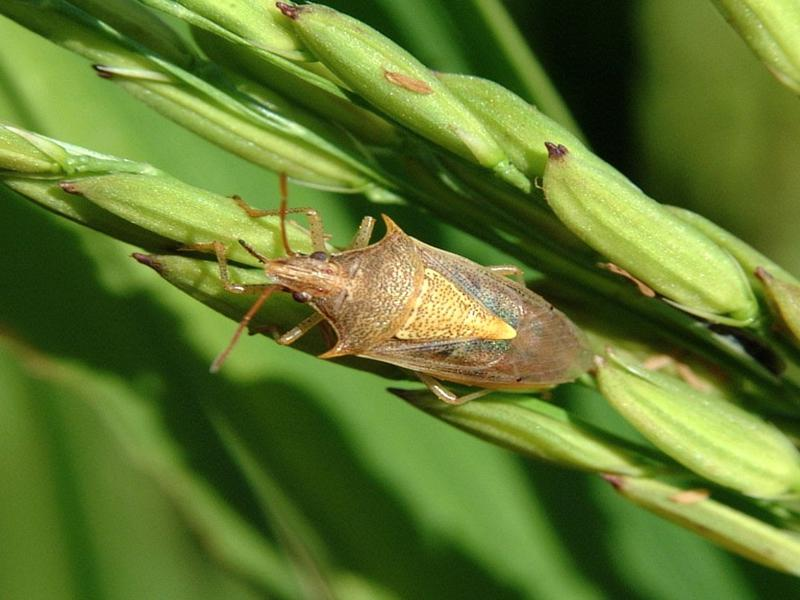Whorl_maggot: (259, 207, 615, 400)
